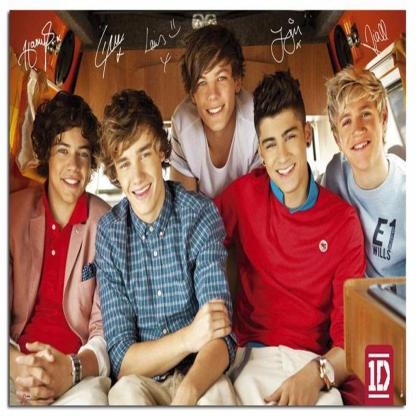face: (260, 115, 307, 195), (117, 139, 163, 217), (52, 122, 94, 206), (340, 97, 383, 173), (199, 57, 238, 132)
